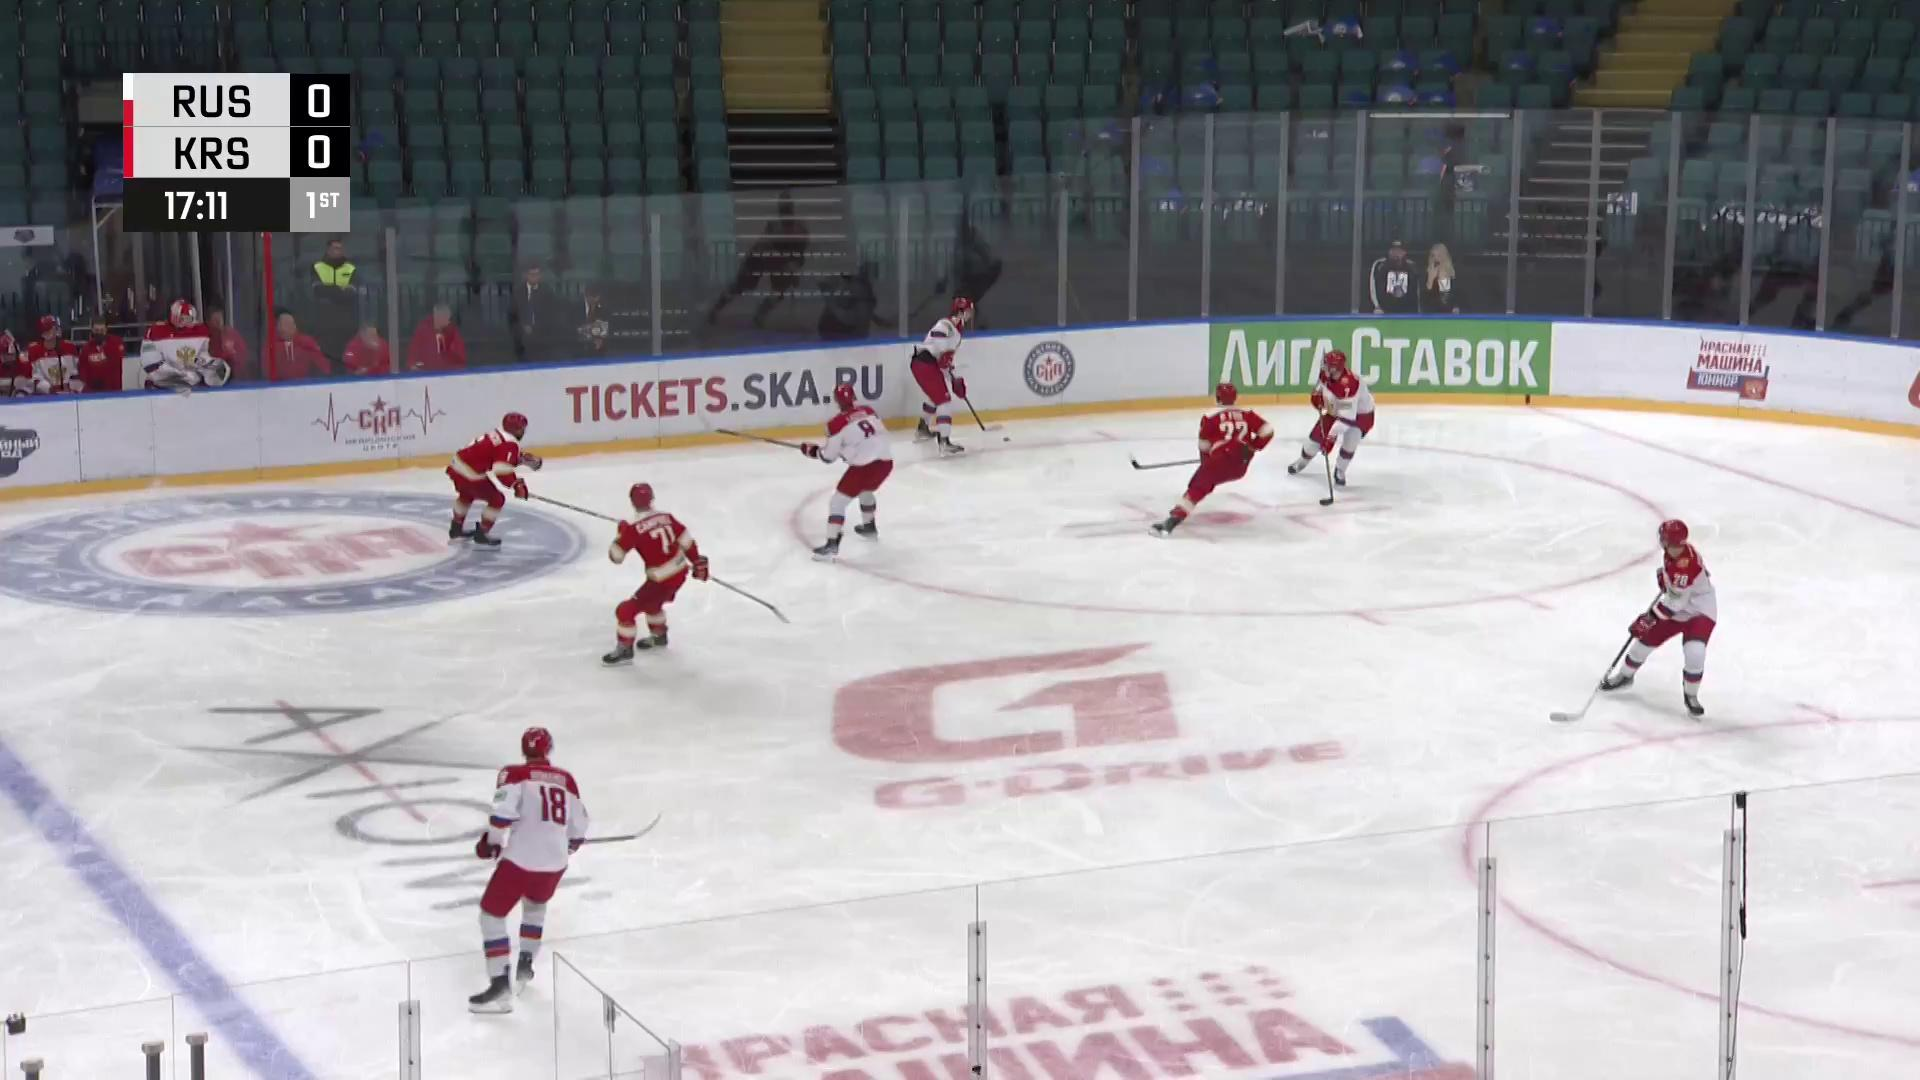ball: (1004, 436, 1011, 442)
